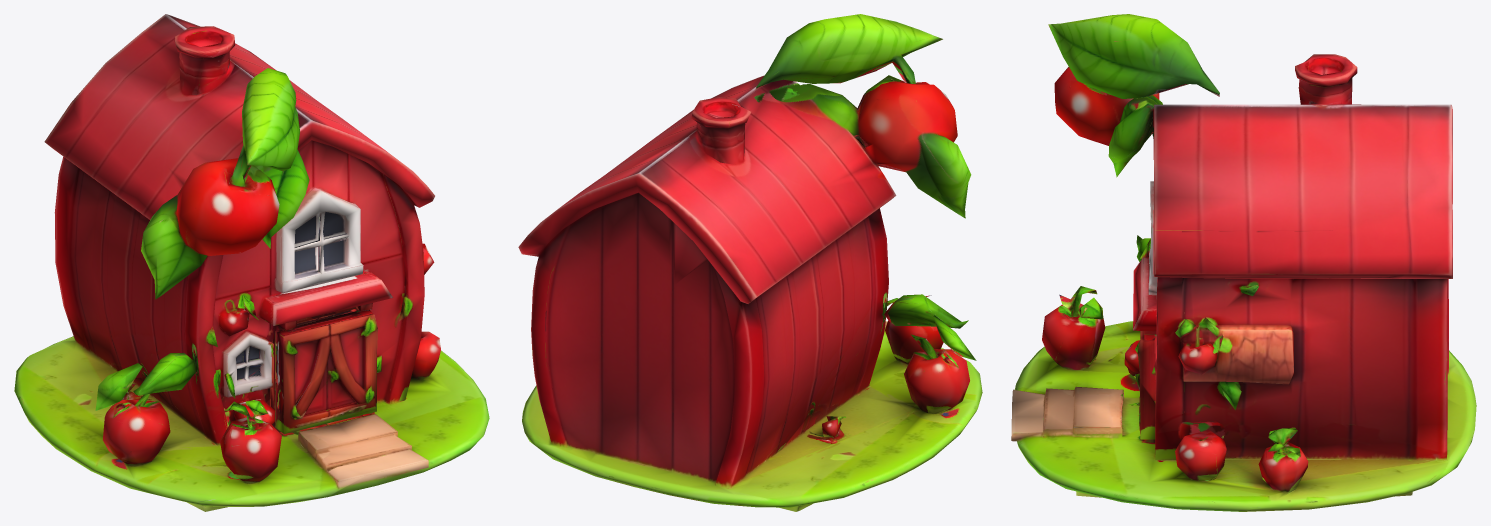
Rendered from Meshy_AI_Cherry_Cottage_0109124050_texture.fbx.
The picture shows the model from 3 angles, left to right: view 1: azimuth 30°, elevation 25°; view 2: azimuth 150°, elevation 25°; view 3: azimuth 270°, elevation 25°; orthographic projection. The views are drawn at different scales.
Visible parts, largest first — view 1: Mesh1.0; view 2: Mesh1.0; view 3: Mesh1.0.
Boxes of the visible parts, <box> form: Mesh1.0: <box>14,14,489,511</box>; Mesh1.0: <box>518,14,982,511</box>; Mesh1.0: <box>1011,14,1476,511</box>.
Size of the model in its own units: 187 by 179 by 191.
Materials: 1 (1 with a texture image).
